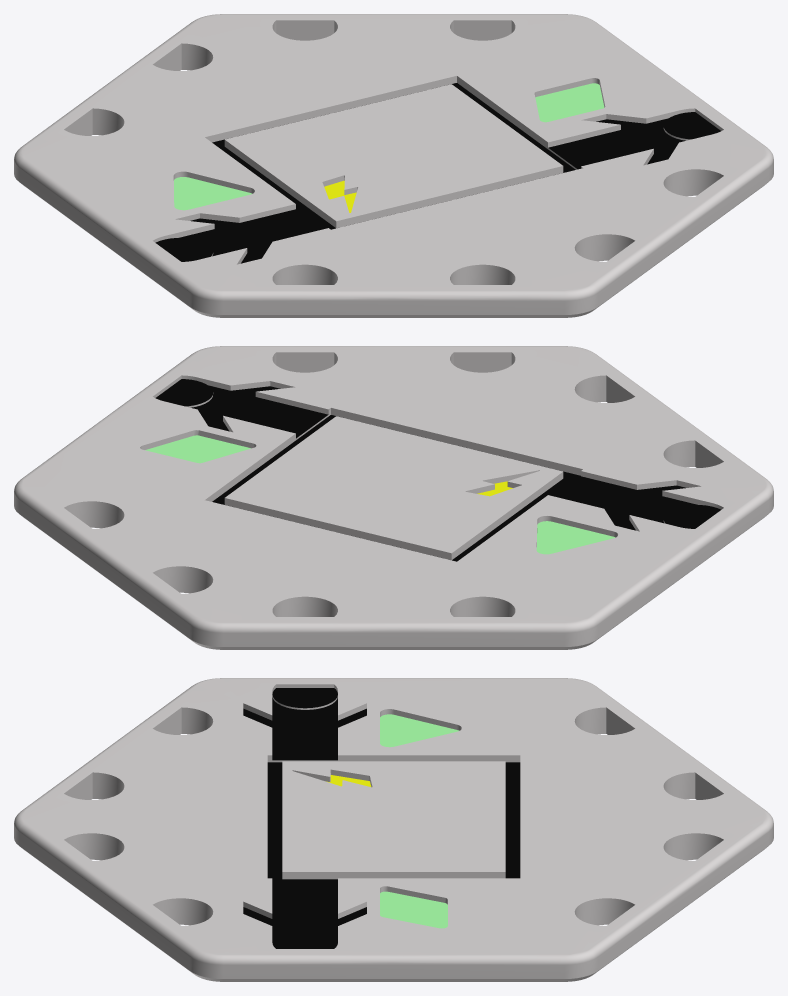
The model's file is tile-plate-factory.glb.
3 renders of one model, top to bottom at view 1: azimuth 30°, elevation 25°; view 2: azimuth 150°, elevation 25°; view 3: azimuth 270°, elevation 25°, orthographic.
Visible parts, largest first — view 1: tile-plate-factory; view 2: tile-plate-factory; view 3: tile-plate-factory.
Part boxes in pixels (box(x1,y1,x2,y2)): tile-plate-factory: box(14, 14, 773, 317); tile-plate-factory: box(14, 346, 773, 649); tile-plate-factory: box(14, 678, 773, 981).
Bounding box in the file's own units: 68.85 × 3 × 78.26.
